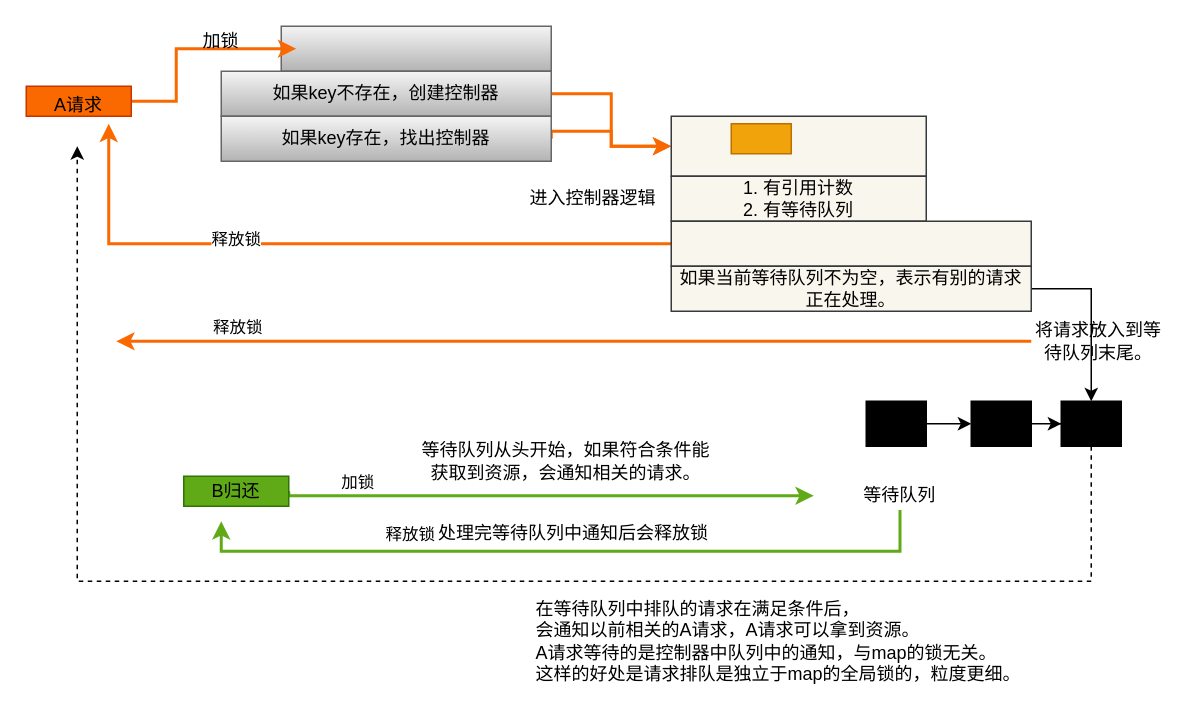
The diagram is 1193 pixels wide and 713 high, and some of its shapes have lost their labels. Each missing label, with the centre of its shape:
"Map" belongs at pixel 415 48.
"当前等待队列为空，表示可以获取到控制，改写引用计数后返回。" belongs at pixel 850 243.
"控制器" belongs at pixel 760 138.
